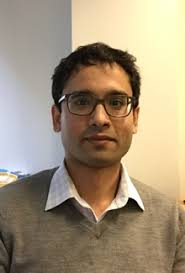Indian_Male: (65, 57, 139, 164)
